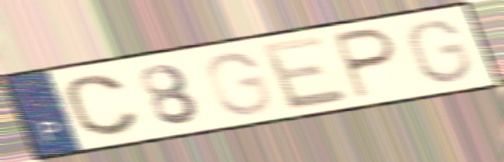8: (139, 62, 201, 126)
C: (61, 72, 145, 139)
E: (256, 32, 353, 114)
G: (203, 50, 276, 118), (406, 18, 476, 85)
P: (329, 25, 401, 102)
